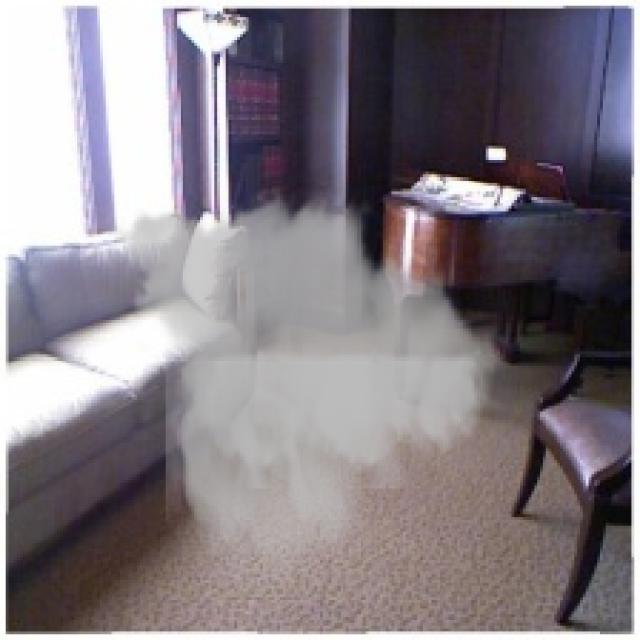smoke: (103, 183, 514, 580)
